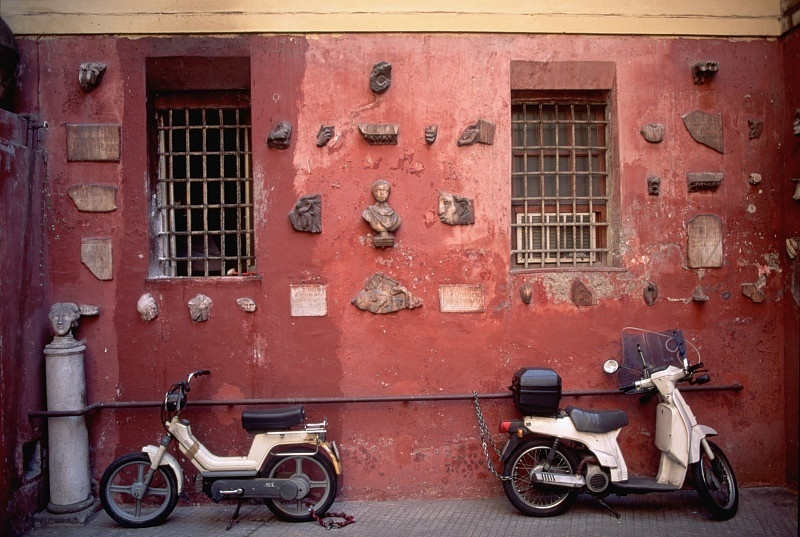non-vehicle: (485, 339, 758, 521), (96, 368, 358, 521)
